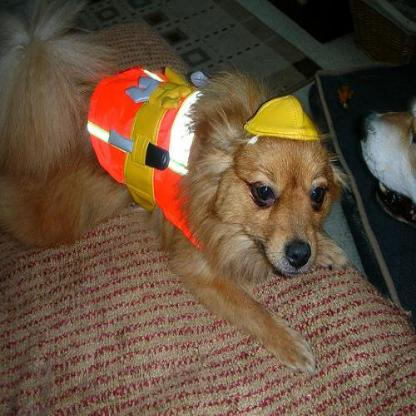Pomeranian: (0, 0, 350, 375)
